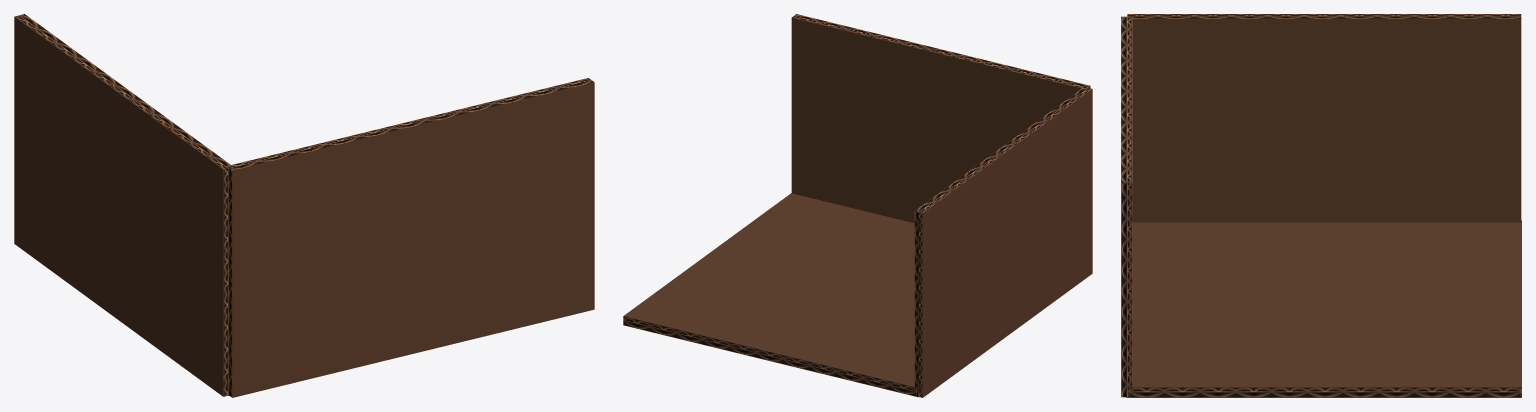
File: Placeholder.fbx
3 renders of one model, left to right at view 1: azimuth 30°, elevation 25°; view 2: azimuth 150°, elevation 25°; view 3: azimuth 270°, elevation 25°, orthographic. The views are drawn at different scales.
Parts seen in each view (by area): view 1: Cube.001, Cube.002; view 2: Cube.001, Cube, Cube.002; view 3: Cube.002, Cube, Cube.001.
Boxes of the visible parts, x1,y1,x2,y2 form: Cube.001: (227, 78, 594, 397); Cube.002: (14, 14, 230, 396); Cube.001: (791, 14, 1090, 222); Cube: (623, 193, 918, 397); Cube.002: (914, 88, 1092, 397); Cube.002: (1127, 14, 1521, 222); Cube: (1126, 220, 1521, 397); Cube.001: (1121, 16, 1132, 397).
Size of the model in its own units: 2029 by 1198 by 2029.
